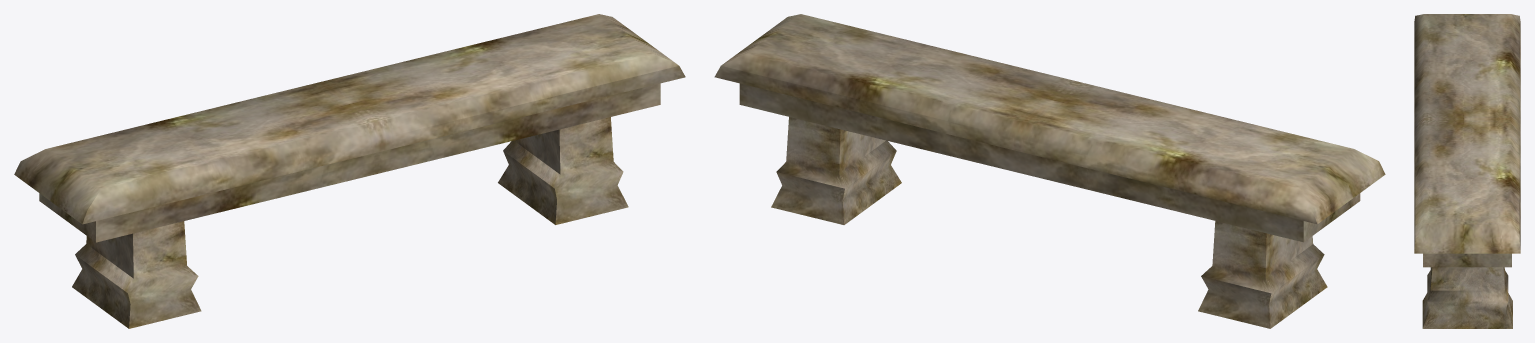
The model's file is bench_stone.fbx.
3 renders of one model, left to right at view 1: azimuth 30°, elevation 25°; view 2: azimuth 150°, elevation 25°; view 3: azimuth 270°, elevation 25°, orthographic. The views are drawn at different scales.
Visible parts, largest first — view 1: bench_03, bench_02, bench_01; view 2: bench_03, bench_02, bench_01; view 3: bench_03, bench_01.
Part boxes in pixels (x1,y1,x2,y2): bench_03: (14,14,685,242); bench_02: (72,221,201,328); bench_01: (498,117,628,224); bench_03: (714,14,1385,242); bench_02: (1198,221,1327,328); bench_01: (771,117,901,224); bench_03: (1414,14,1520,267); bench_01: (1422,267,1512,328).
Size of the model in its own units: 647 by 149 by 126.
1 material, 1 textured.
